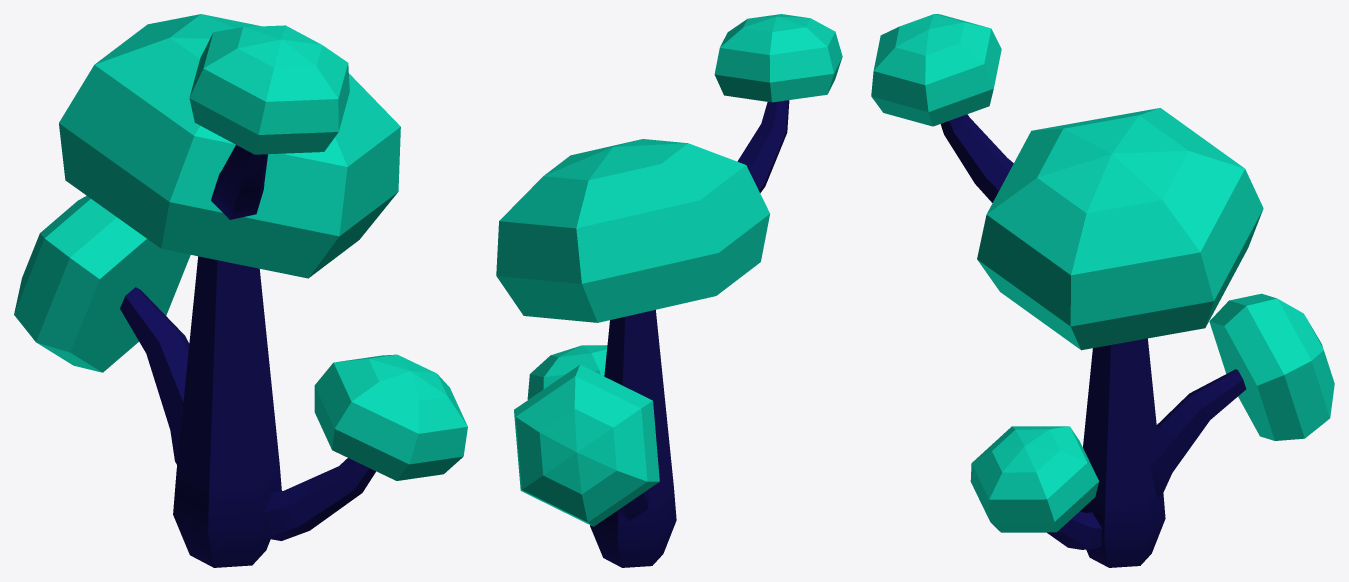
The model's file is Mushroom_3.fbx.
3 renders of one model, left to right at view 1: azimuth 30°, elevation 25°; view 2: azimuth 150°, elevation 25°; view 3: azimuth 270°, elevation 25°, orthographic. The views are drawn at different scales.
Parts seen in each view (by area): view 1: glow, stem; view 2: glow, stem; view 3: glow, stem.
Part boxes in pixels (x1=…): glow: x1=14, y1=14, x2=467, y2=480; stem: x1=120, y1=145, x2=375, y2=567; glow: x1=496, y1=14, x2=842, y2=526; stem: x1=590, y1=100, x2=789, y2=567; glow: x1=871, y1=14, x2=1334, y2=532; stem: x1=940, y1=114, x2=1246, y2=567.
Bounding box in the file's own units: 10.38 × 18.87 × 15.82.
